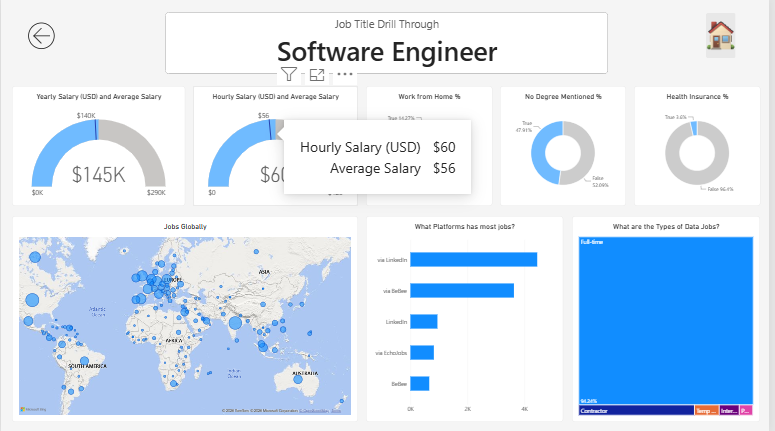

The page's visual inventory and layout, read from the dashboard file:
{"tool":"powerbi","page":{"name":"Job Title Drill Through","canvas":[1920,1080],"ordinal":2},"visuals":[{"type":"cardVisual","fields":{"Data":["Min(job_postings_flat.job_title_short)"]},"box":[411.1,33.3,1108.9,155.6],"z":1000},{"type":"actionButton","box":[28.9,34.2,142.1,113.2],"z":2000},{"type":"gauge","fields":{"TargetValue":["Avg(Job_Postings_Flat.salary_year_avg)1"],"Y":["Median(Job_Postings_Flat.salary_year_avg)"]},"box":[28.4,216.4,432.8,300],"z":3000},{"type":"gauge","fields":{"TargetValue":["Avg(Job_Postings_Flat.salary_hour_avg)1"],"Y":["Median(Job_Postings_Flat.salary_hour_avg)"]},"box":[480.6,216.4,411.9,300],"z":4000},{"type":"donutChart","title":"Work from Home %","fields":{"Category":["Job_Postings_Flat.job_work_from_home"],"Y":["CountNonNull(Job_Postings_Flat.job_work_from_home)"]},"box":[911.9,216.4,315.8,300],"z":5000},{"type":"donutChart","title":"Health Insurance %","fields":{"Category":["Job_Postings_Flat.job_health_insurance"],"Y":["CountNonNull(Job_Postings_Flat.job_health_insurance)"]},"box":[1583.6,216.4,315.8,300],"z":6000},{"type":"donutChart","title":"No Degree Mentioned %","fields":{"Category":["Job_Postings_Flat.job_no_degree_mention"],"Y":["CountNonNull(Job_Postings_Flat.job_no_degree_mention)"]},"box":[1247.5,217.5,315,300],"z":7000},{"type":"map","title":"Jobs Globally","fields":{"Category":["Job_Postings_Flat.job_country"],"Size":["CountNonNull(Job_Postings_Flat.job_title_short)"]},"box":[27.5,542.5,865,515],"z":8000},{"type":"treemap","title":"What are the Types of Data Jobs?","fields":{"Group":["Job_Postings_Flat.job_schedule_type"],"Values":["CountNonNull(Job_Postings_Flat.job_title_short)"]},"box":[1427.5,542.5,470,515],"z":9000},{"type":"barChart","title":"What Platforms has most jobs?","fields":{"Category":["Job_Postings_Flat.job_via"],"Y":["CountNonNull(Job_Postings_Flat.job_via)"]},"box":[912.5,542.5,492.5,515],"z":10000},{"type":"actionButton","box":[1762.4,34,74.4,112.7],"z":11000}]}

Visuals, with their boxes in screenshot pixels (x1, y1, x2, y2), scaled from the page's 1920x1080 canvas onto the 775x431 screenshot:
cardVisual - Min(job_postings_flat.job_title_short): 166 13 614 75
actionButton: 12 14 69 59
gauge - Avg(Job_Postings_Flat.salary_year_avg)1 x Median(Job_Postings_Flat.salary_year_avg): 11 86 186 206
gauge - Avg(Job_Postings_Flat.salary_hour_avg)1 x Median(Job_Postings_Flat.salary_hour_avg): 194 86 360 206
"Work from Home %" donutChart: 368 86 496 206
"Health Insurance %" donutChart: 639 86 767 206
"No Degree Mentioned %" donutChart: 504 87 631 207
"Jobs Globally" map: 11 216 360 422
"What are the Types of Data Jobs?" treemap: 576 216 766 422
"What Platforms has most jobs?" barChart: 368 216 567 422
actionButton: 711 14 741 59
